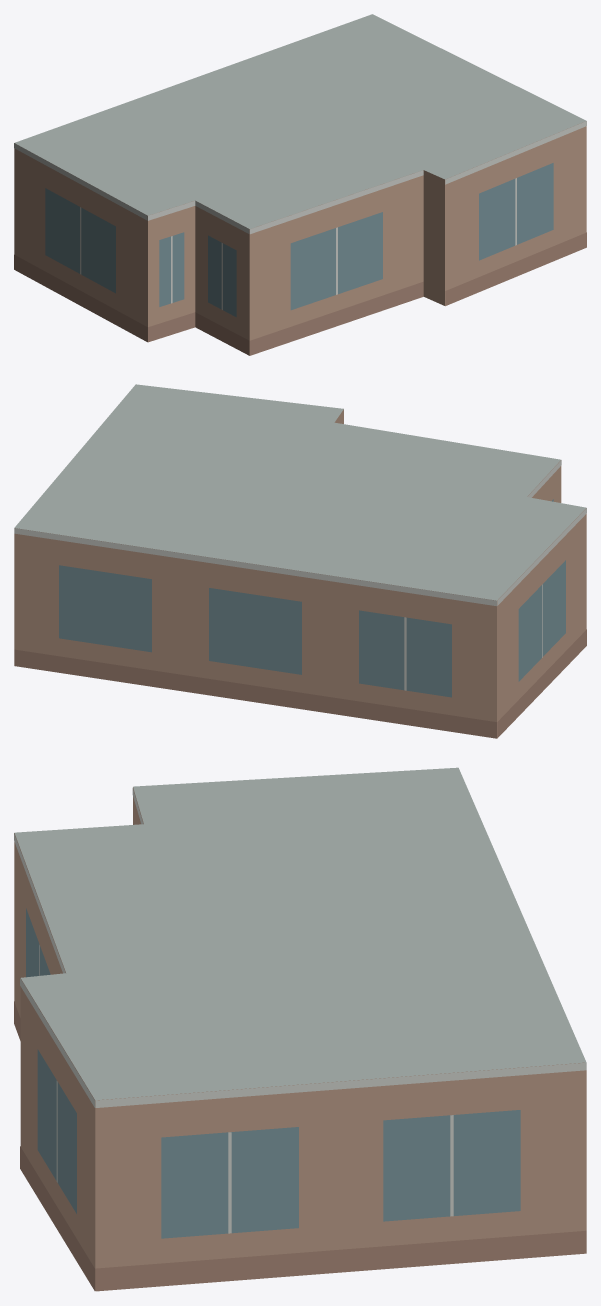
The model's file is survey-upis-33036455.glb.
3 views of the same model, one above another, from view 1: azimuth 30°, elevation 25°; view 2: azimuth 150°, elevation 25°; view 3: azimuth 270°, elevation 25° (orthographic). The views are drawn at different scales.
Parts seen in each view (by area): view 1: survey-upis-33036455.tmp; view 2: survey-upis-33036455.tmp; view 3: survey-upis-33036455.tmp.
Boxes of the visible parts, x1,y1,x2,y2 form: survey-upis-33036455.tmp: (14, 14, 586, 355); survey-upis-33036455.tmp: (14, 384, 586, 738); survey-upis-33036455.tmp: (14, 767, 586, 1291).
Bounding box in the file's own units: 11.41 × 3.05 × 8.29.
